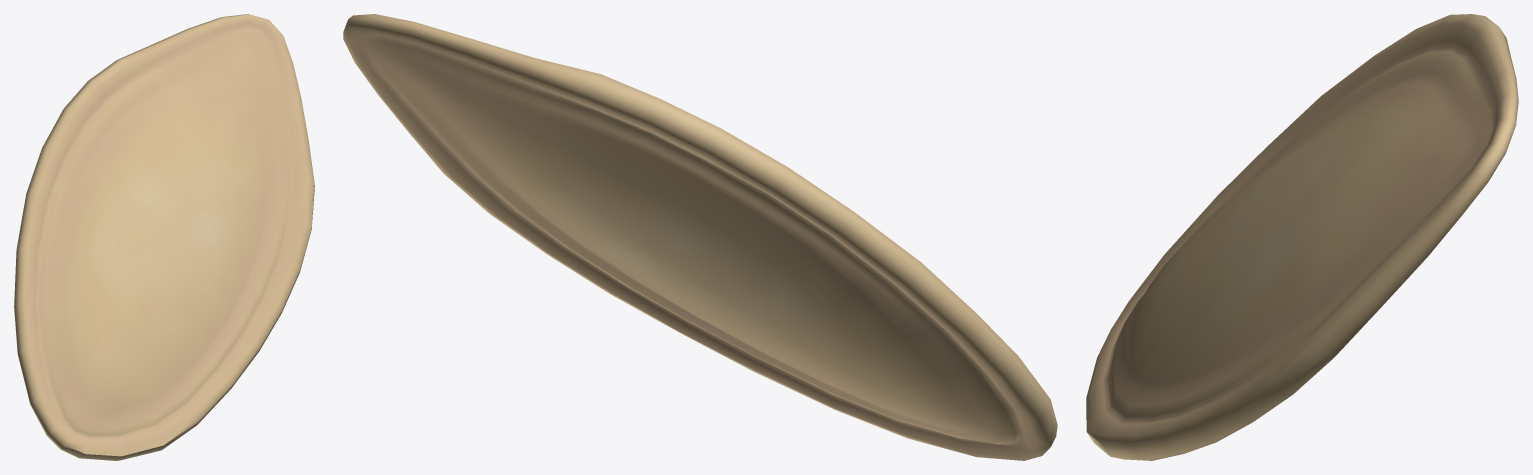
File: pumpkinseed.obj
The picture shows the model from 3 angles, left to right: view 1: azimuth 30°, elevation 25°; view 2: azimuth 150°, elevation 25°; view 3: azimuth 270°, elevation 25°; orthographic projection. The views are drawn at different scales.
Parts seen in each view (by area): view 1: pumpkinseed1:pumpkinsd; view 2: pumpkinseed1:pumpkinsd; view 3: pumpkinseed1:pumpkinsd.
Boxes of the visible parts, x1,y1,x2,y2 form: pumpkinseed1:pumpkinsd: (14,14,314,460); pumpkinseed1:pumpkinsd: (343,14,1057,460); pumpkinseed1:pumpkinsd: (1086,14,1518,460).
Size of the model in its own units: 1.45 by 1.2 by 0.9314.
1 material, 1 textured.
